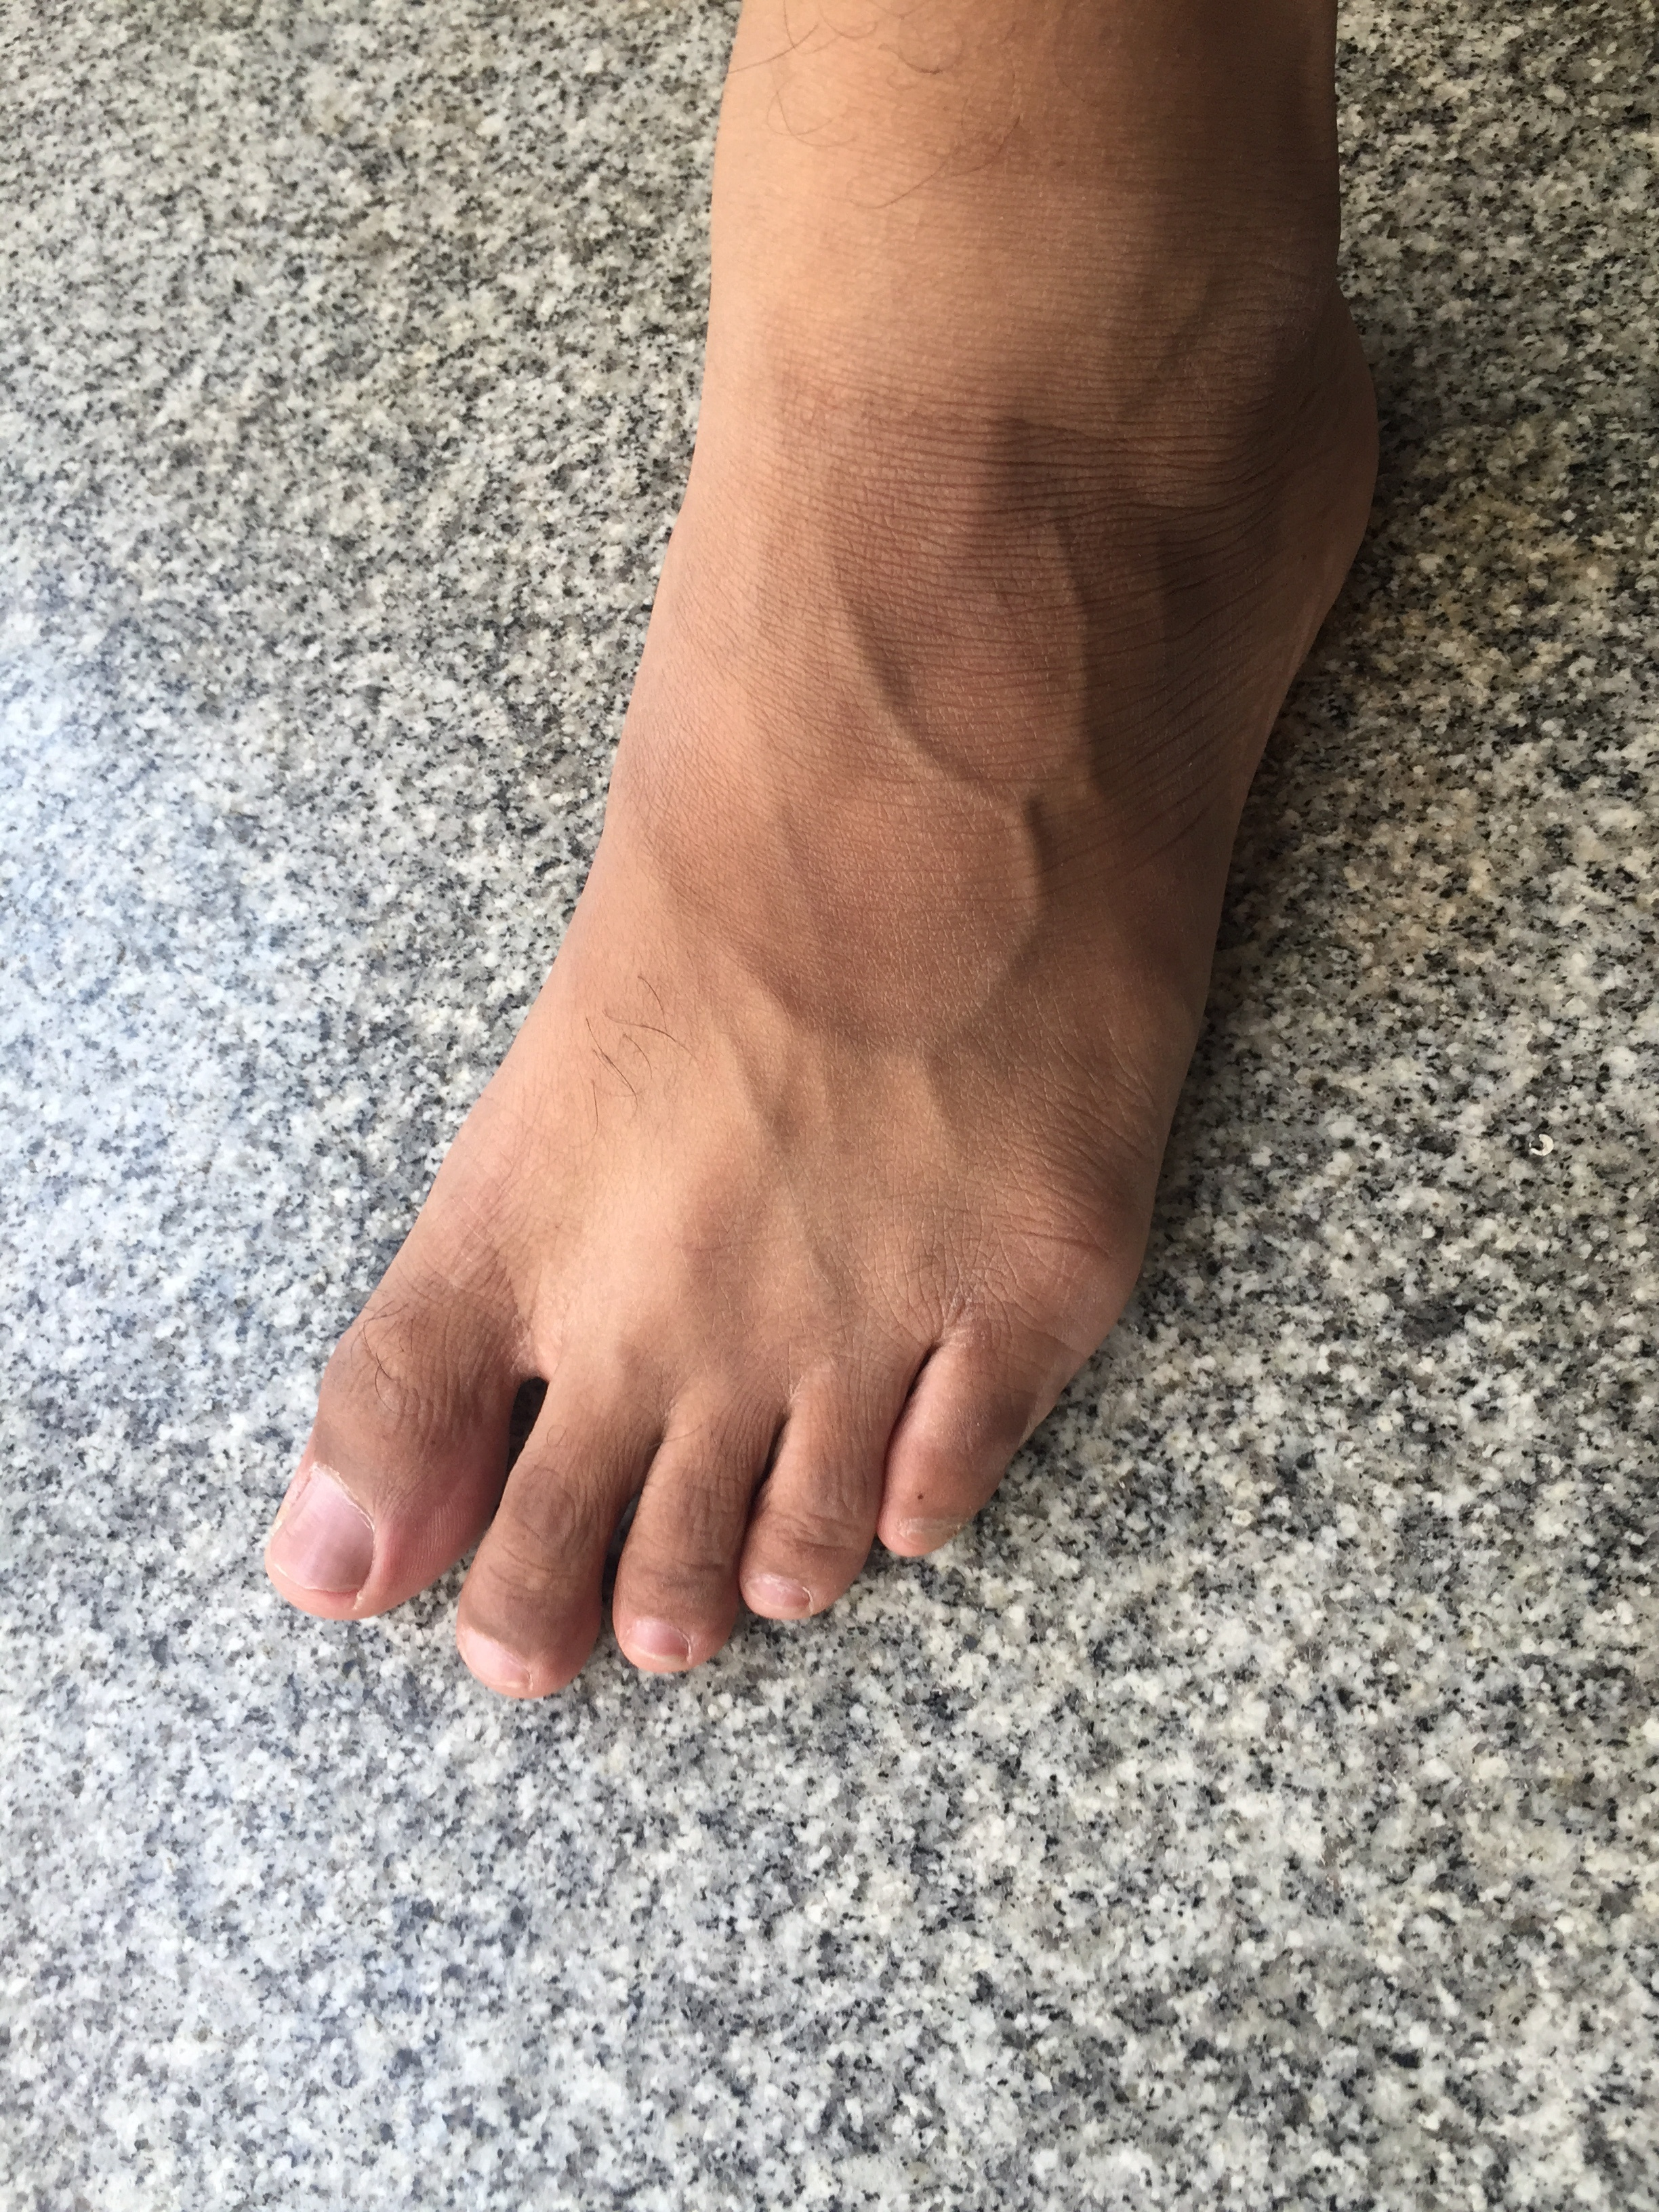feet: (247, 56, 1432, 1665)
